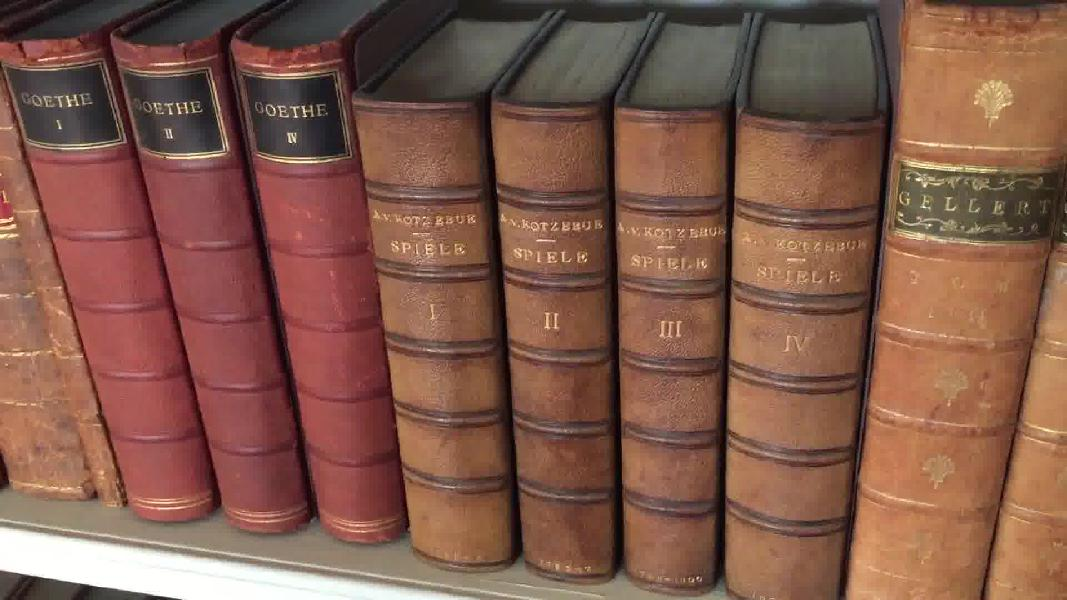Aa6-11_13: (1, 42, 405, 575)
Aa6-14_17: (335, 81, 905, 600)
